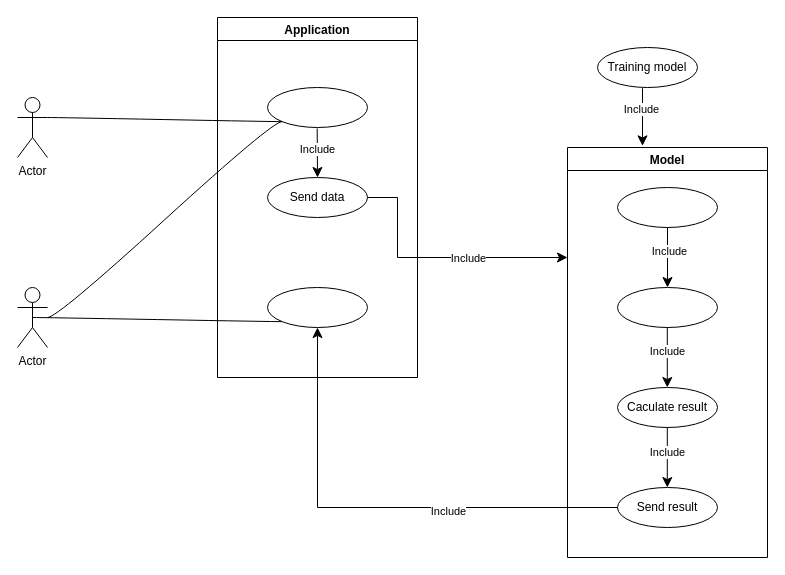
Some shapes in this 785 by 575 pixel diagram are drawn without their labels. The shapes that lost their labels are listed below. From the top down, each one's centre as x and y in pixels, then its label:
the point at 317,107: Upload Image
the point at 667,207: Detect object
the point at 317,307: Display result
the point at 667,307: Classify data
